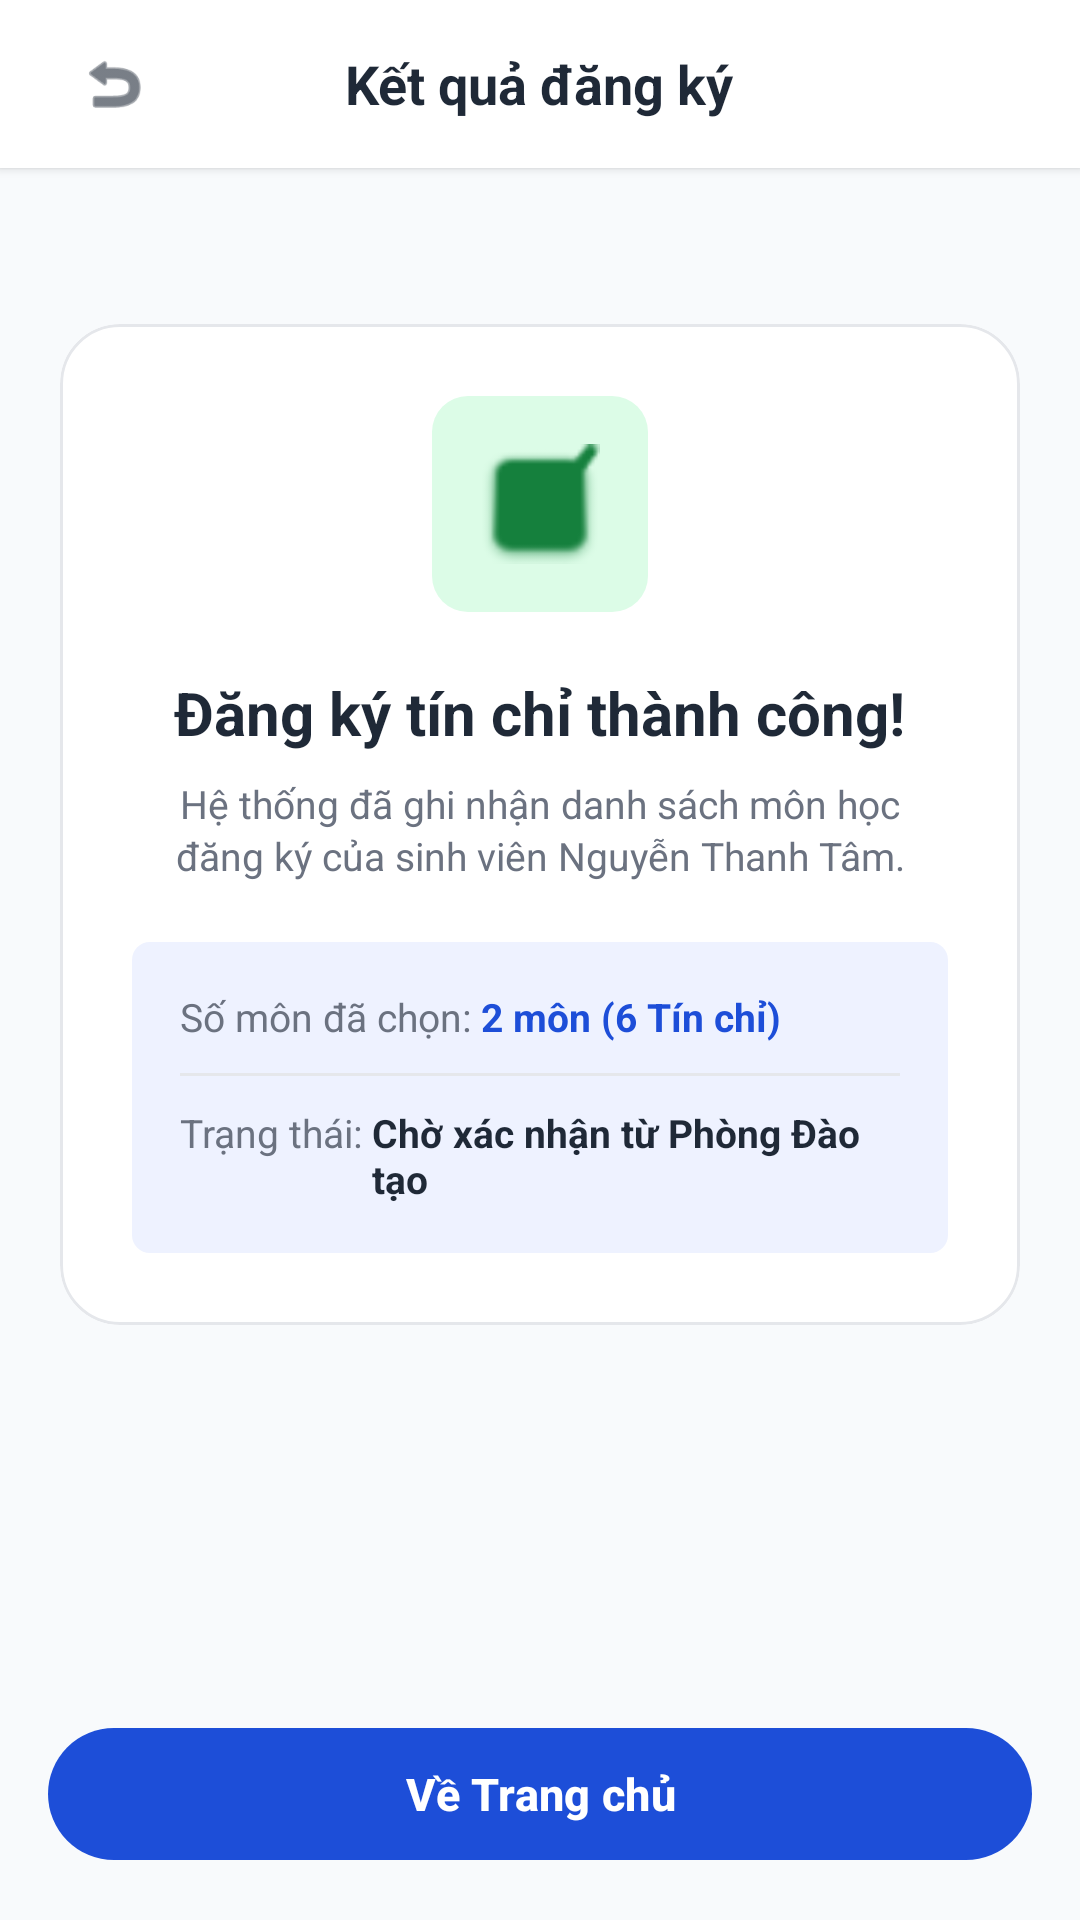

Where to tap for icons on this 1080px×1920px app screen, as [x,y]:
Back: [115,84]
